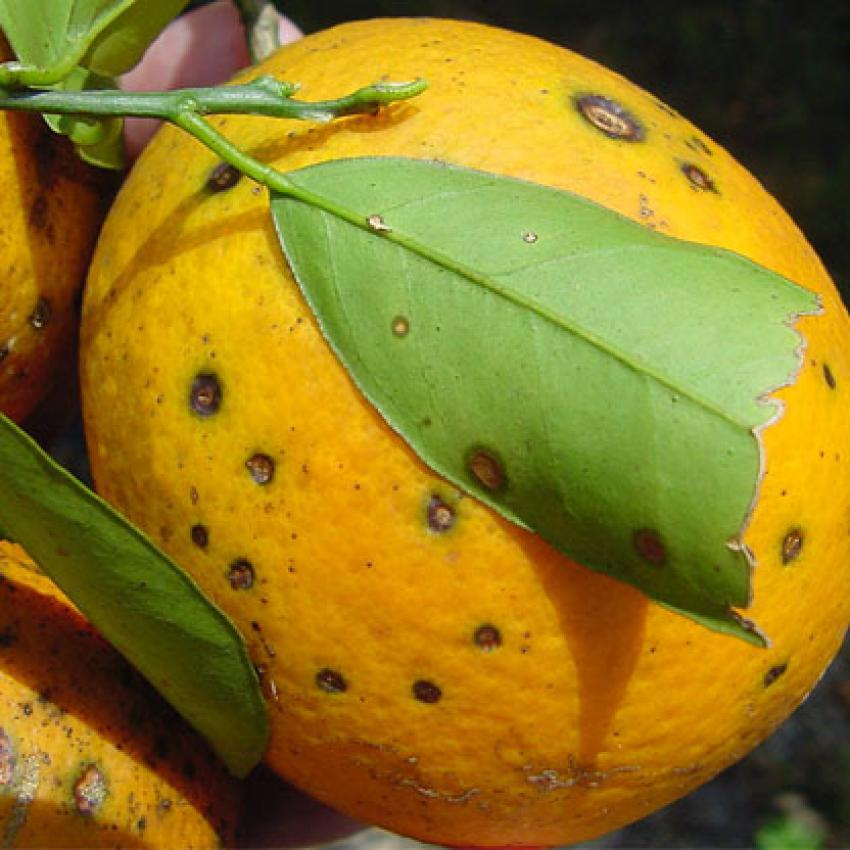Mal estado: (64, 11, 848, 848)
